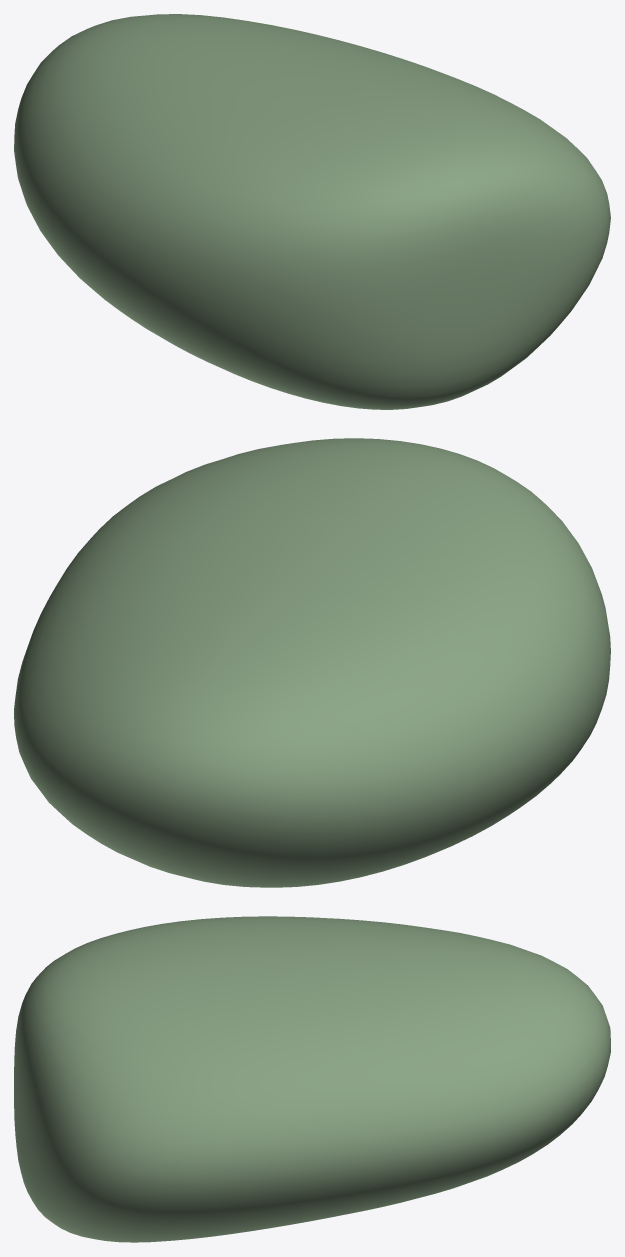
Rendered from Puff5.fbx.
3 views of the same model, one above another, from view 1: azimuth 30°, elevation 25°; view 2: azimuth 150°, elevation 25°; view 3: azimuth 270°, elevation 25° (orthographic). The views are drawn at different scales.
Parts seen in each view (by area): view 1: Puff5; view 2: Puff5; view 3: Puff5.
Part boxes in pixels (left/top/right/bottom): Puff5: left=14, top=14, right=610, bottom=409; Puff5: left=14, top=438, right=610, bottom=887; Puff5: left=14, top=916, right=610, bottom=1242.
Bounding box in the file's own units: 0.5795 × 0.312 × 0.6941.
